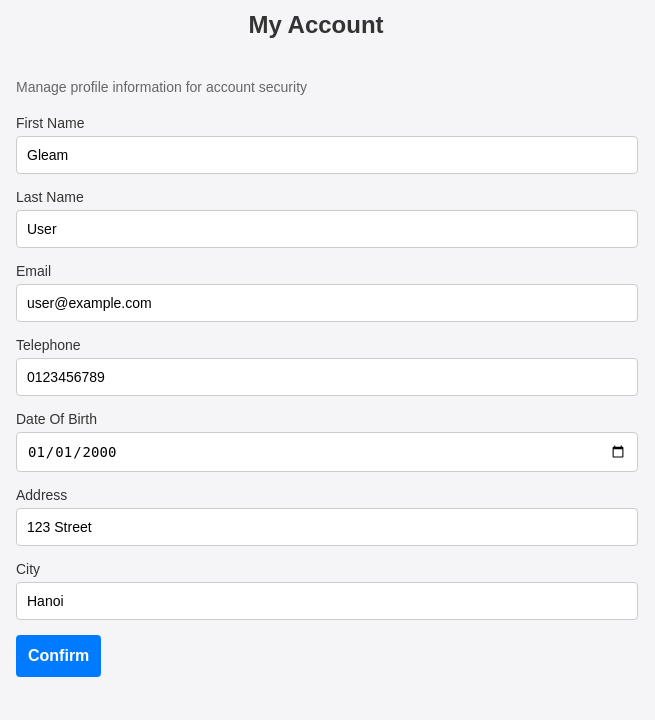
MyAccount Component › handles profile updates successfully
Replace the text in the field with placeholder "Your First Name" below "First Name" with "Updated": [327, 155] box [16,136,638,174]
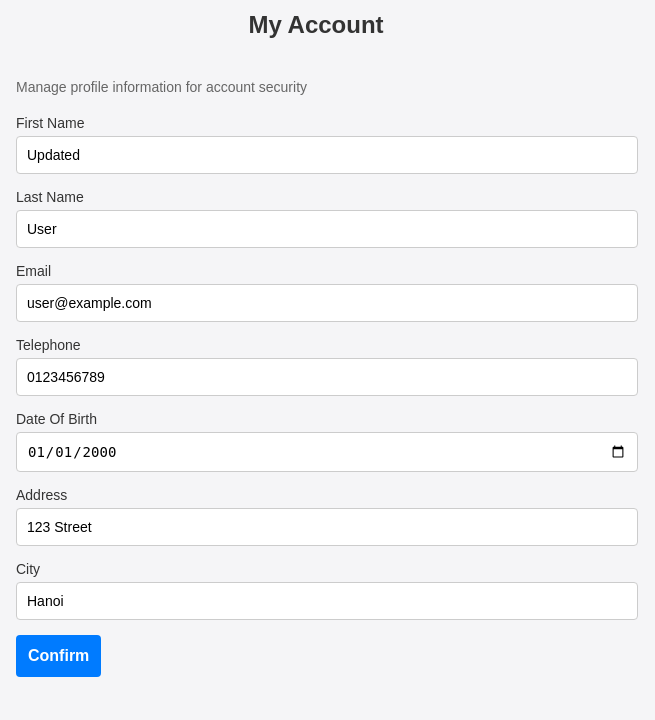
Click the button "Confirm": [59, 656] box [16,635,101,677]
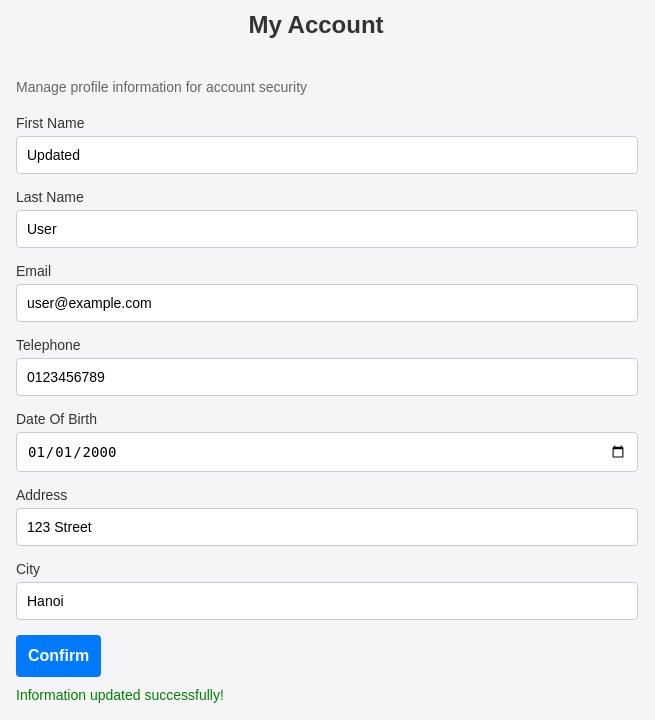
Now the text "Information updated successfully!" is shown, box [16,687,224,703]
